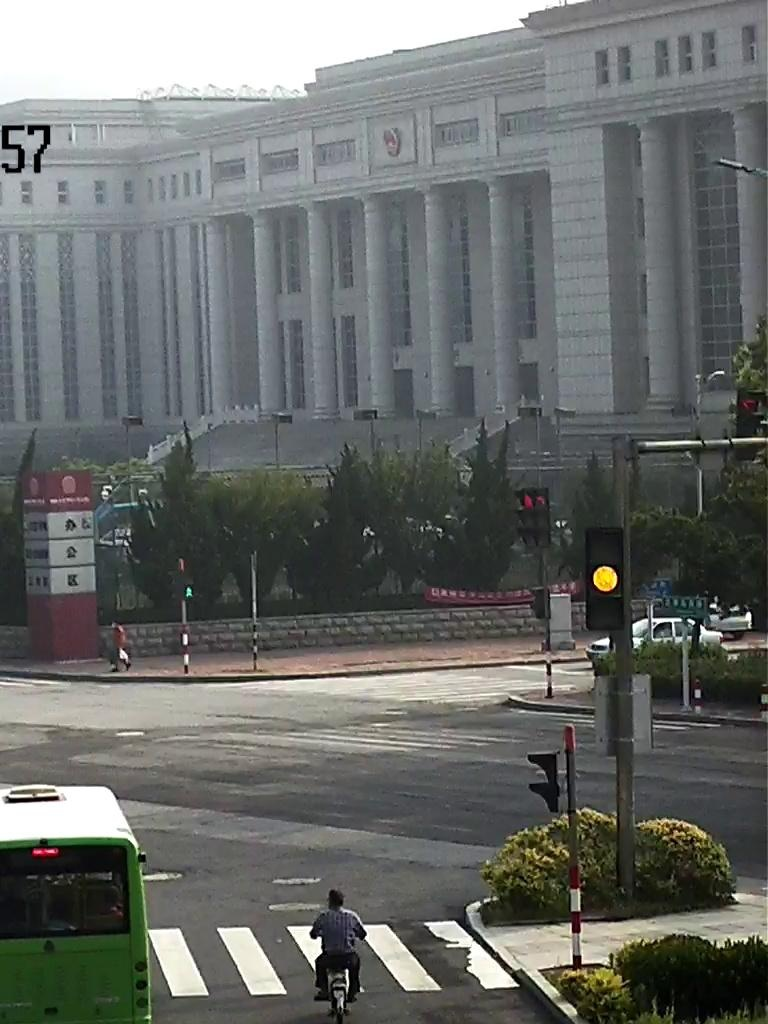greenpeople: (185, 583, 196, 602)
red: (512, 490, 542, 516)
yellow: (588, 561, 627, 596)
